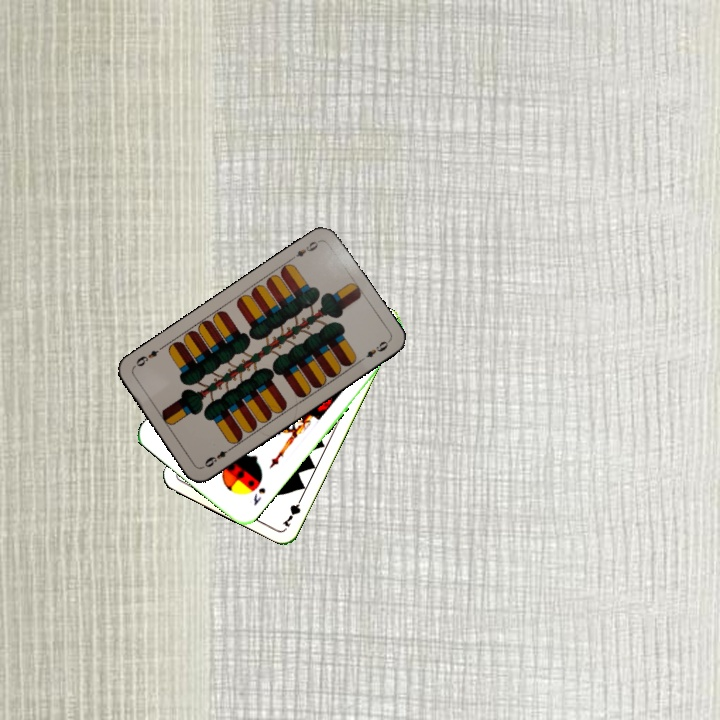E9: (286, 236, 323, 263), (199, 443, 235, 470)
G7: (278, 492, 306, 530)
SK: (249, 483, 268, 508)
